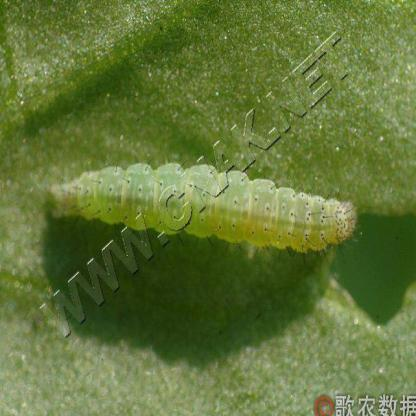armyworm: (45, 149, 362, 260)
